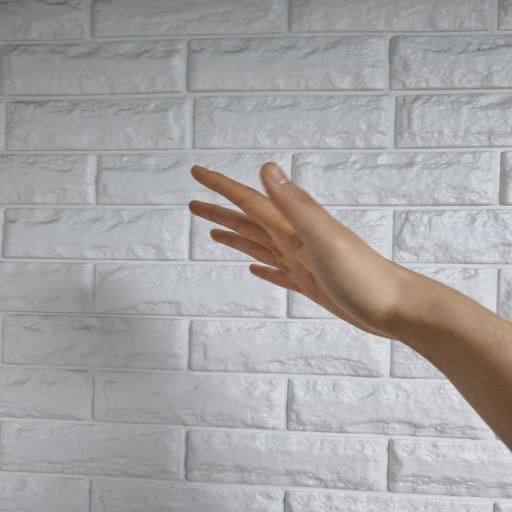Paper: (188, 161, 415, 346)
